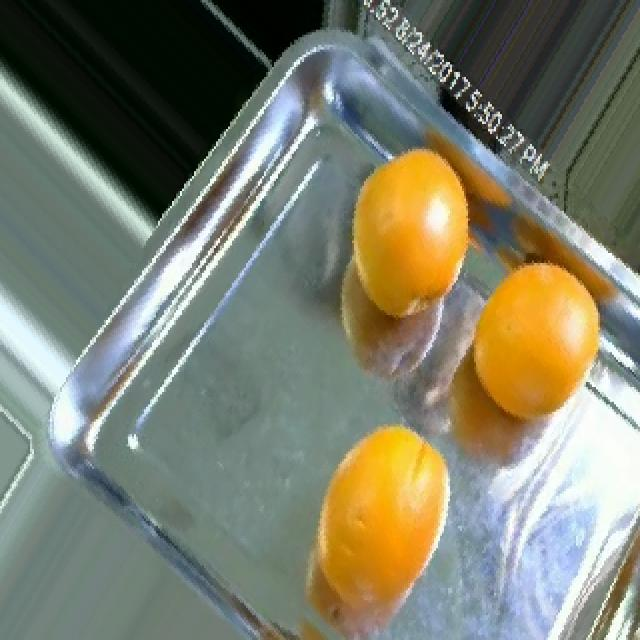Fruit: (296, 399, 484, 625), (314, 206, 494, 407), (188, 0, 344, 89)
